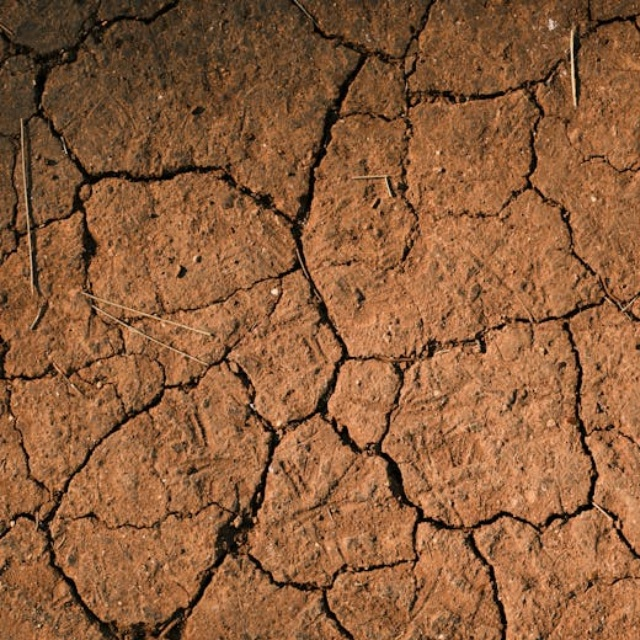细微裂纹: (325, 87, 640, 549), (438, 11, 640, 640), (216, 0, 377, 335), (344, 0, 456, 283), (522, 274, 629, 549), (475, 0, 594, 239)
网状裂隙: (170, 0, 640, 640), (0, 95, 522, 640), (79, 0, 640, 491)
